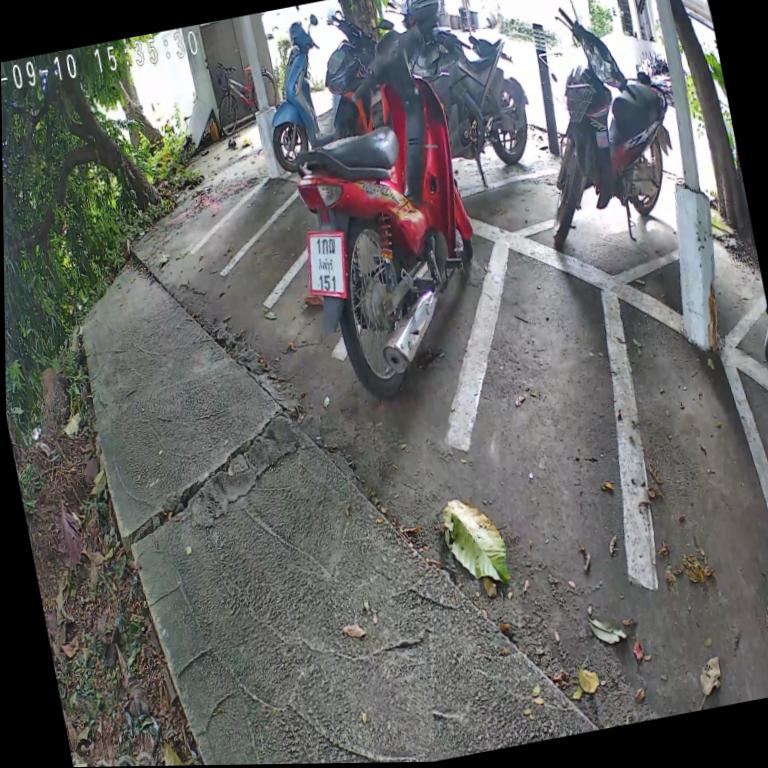license plate: (294, 218, 361, 318)
